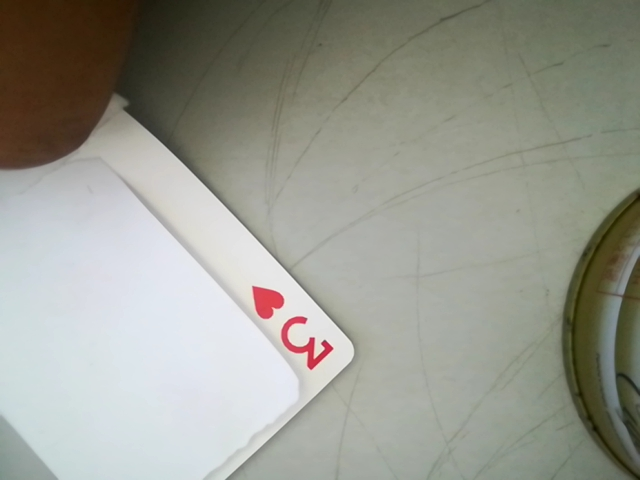hx 3: (237, 274, 344, 378)
